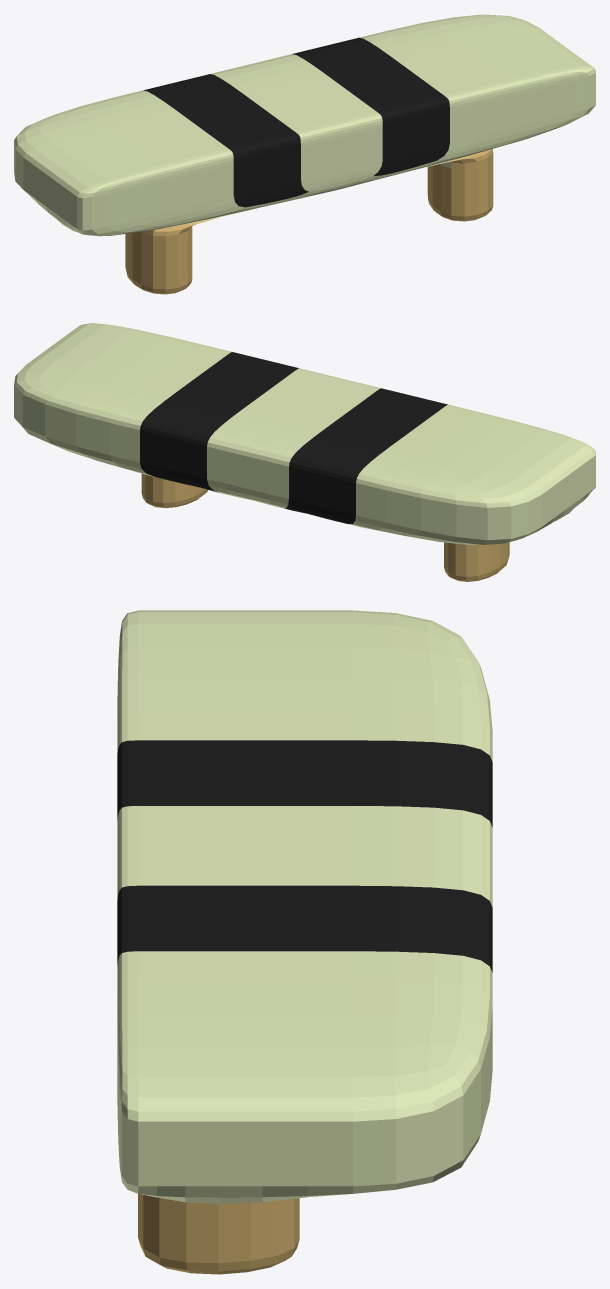
Rendered from Bank.fbx.
The picture shows the model from 3 angles, top to bottom: view 1: azimuth 30°, elevation 25°; view 2: azimuth 150°, elevation 25°; view 3: azimuth 270°, elevation 25°; orthographic projection. The views are drawn at different scales.
Visible parts, largest first — view 1: Bank; view 2: Bank; view 3: Bank.
Boxes of the visible parts, <box> form: Bank: <box>14,14,595,294</box>; Bank: <box>14,323,595,581</box>; Bank: <box>117,610,492,1274</box>.
Size of the model in its own units: 177 by 44.64 by 55.54.
